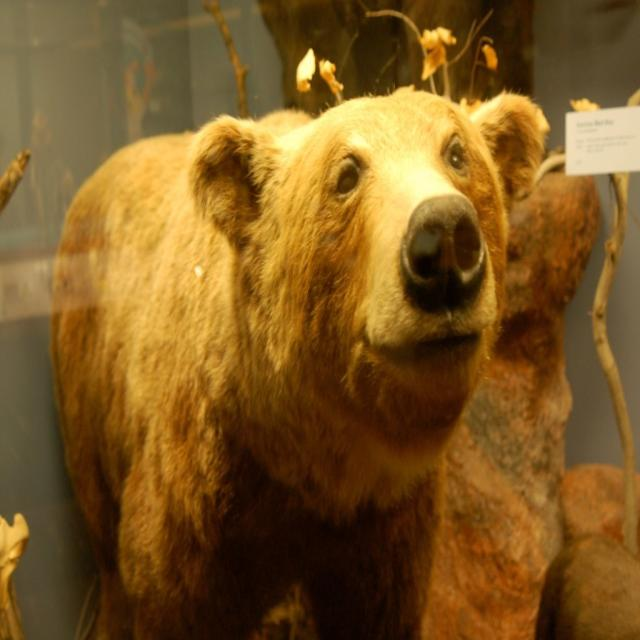Cheetahs: (47, 84, 551, 639)
